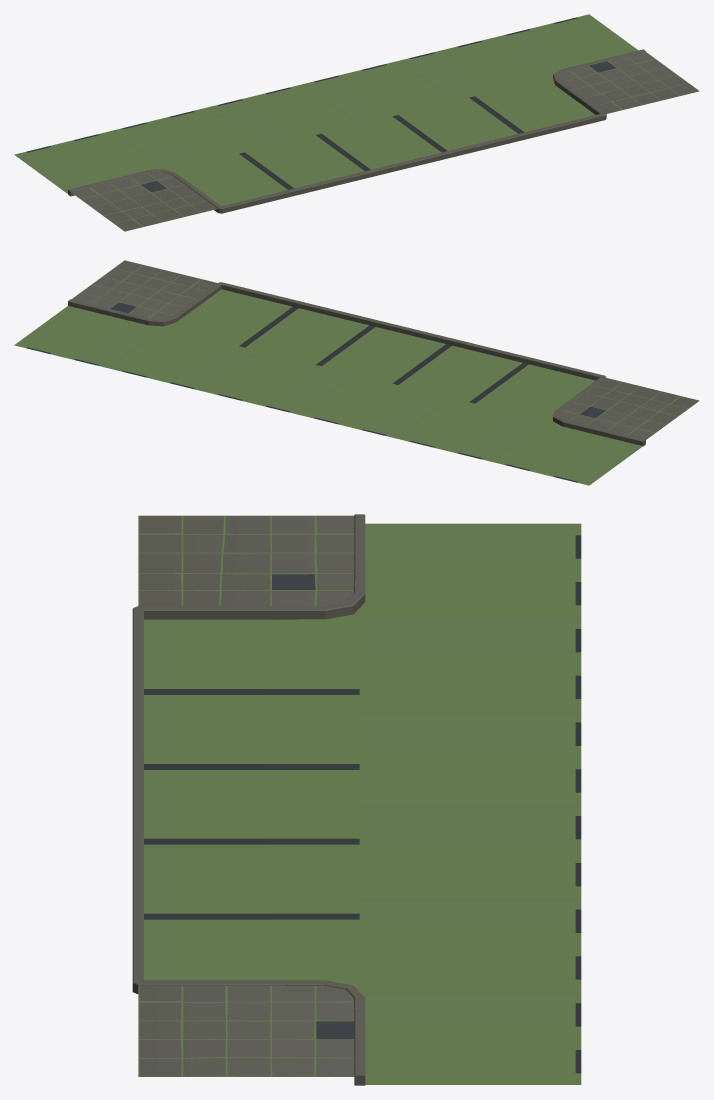
File: Road_36.fbx
3 views of the same model, one above another, from view 1: azimuth 30°, elevation 25°; view 2: azimuth 150°, elevation 25°; view 3: azimuth 270°, elevation 25° (orthographic). The views are drawn at different scales.
Parts seen in each view (by area): view 1: Road_36; view 2: Road_36; view 3: Road_36.
Part boxes in pixels (left/top/right/bottom): Road_36: left=14, top=14, right=699, bottom=231; Road_36: left=14, top=260, right=699, bottom=485; Road_36: left=132, top=514, right=581, bottom=1085.
Bounding box in the file's own units: 18 × 0.15 × 6.08.
